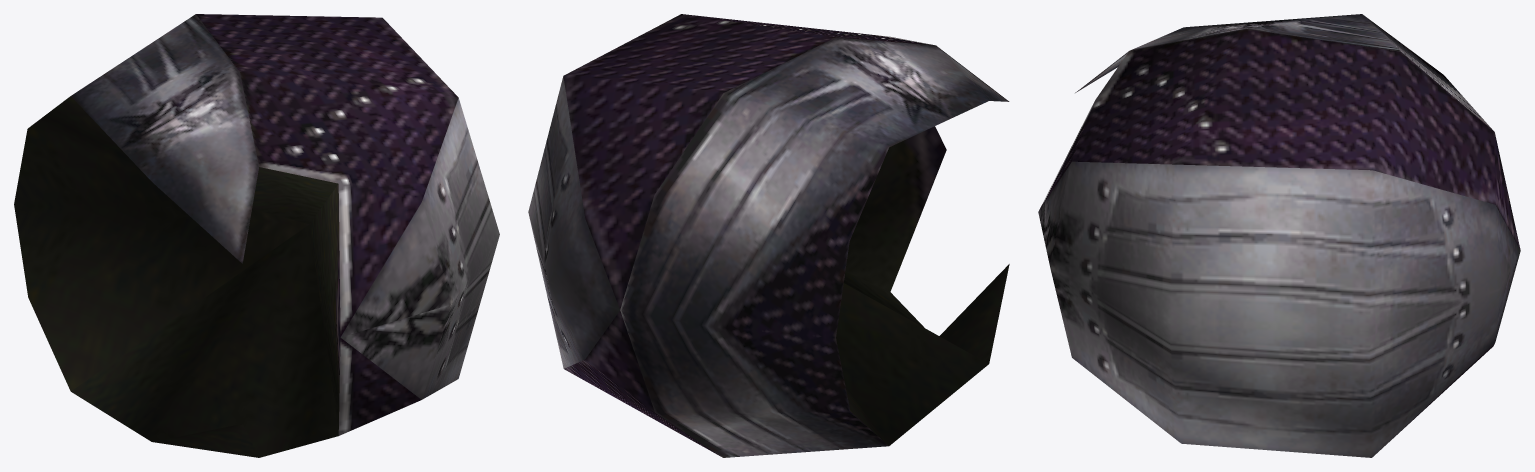
Rendered from Helmet7__MOB.glb.
The picture shows the model from 3 angles, left to right: view 1: azimuth 30°, elevation 25°; view 2: azimuth 150°, elevation 25°; view 3: azimuth 270°, elevation 25°; orthographic projection.
Parts seen in each view (by area): view 1: Helmet7; view 2: Helmet7; view 3: Helmet7.
Part boxes in pixels (x1,y1,x2,y2): Helmet7: [14, 14, 499, 457]; Helmet7: [528, 14, 1009, 457]; Helmet7: [1038, 14, 1520, 457].
Bounding box in the file's own units: 11.33 × 11.15 × 13.16.
1 material, 1 textured.
